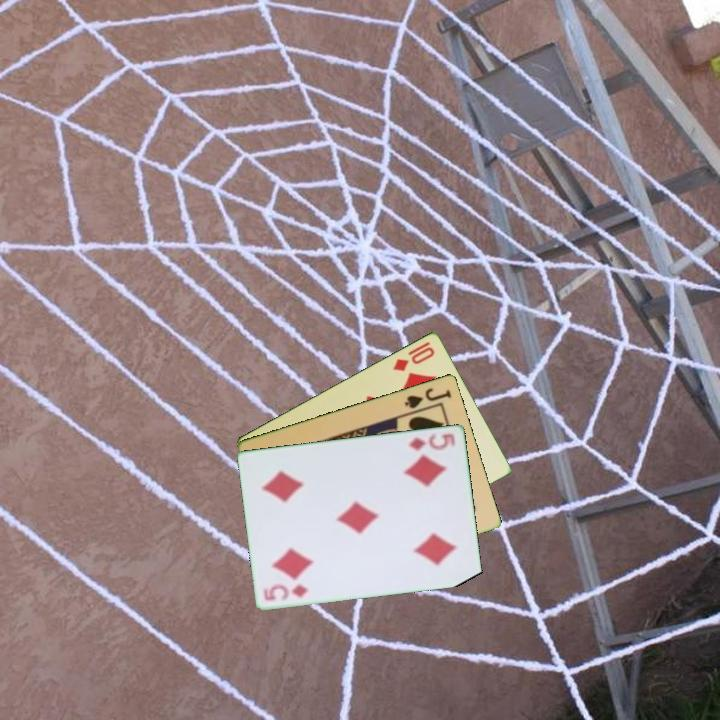10d: (389, 338, 438, 374)
5d: (405, 430, 458, 453), (260, 580, 311, 603)
Js: (401, 384, 454, 411)
